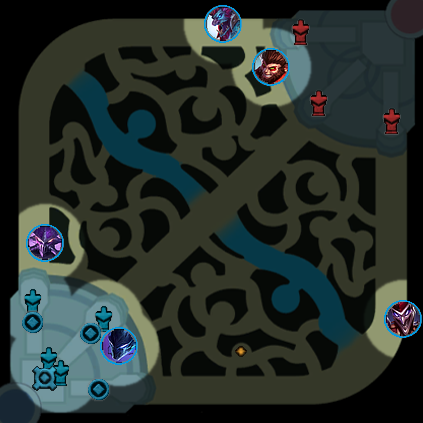Kassadin: (26, 224, 64, 262)
MonkeyKing: (252, 48, 290, 86)
Nocturne: (100, 327, 138, 365)
Shaco: (384, 300, 422, 338)
Trundle: (204, 5, 242, 43)
